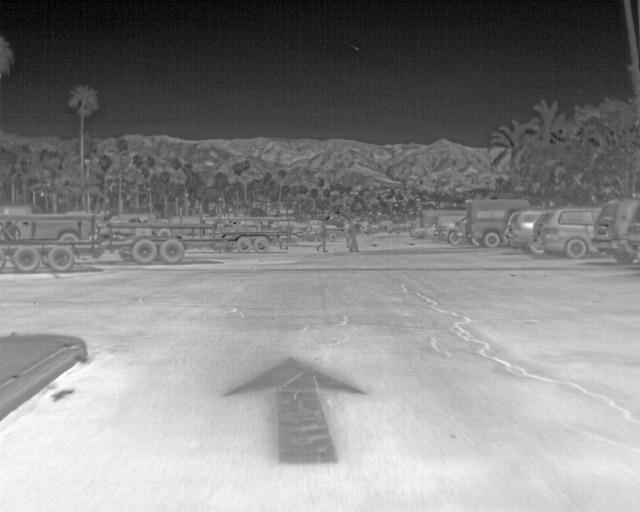bicycle: (531, 207, 600, 262), (588, 196, 639, 265), (506, 210, 545, 255), (446, 219, 467, 245), (406, 223, 436, 240)
empty: (312, 222, 332, 252), (348, 219, 362, 253)
